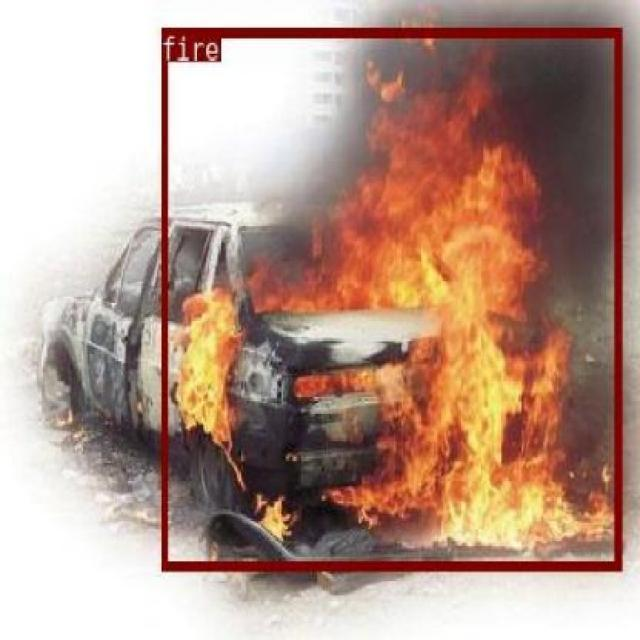Fire: (389, 298, 462, 543)
